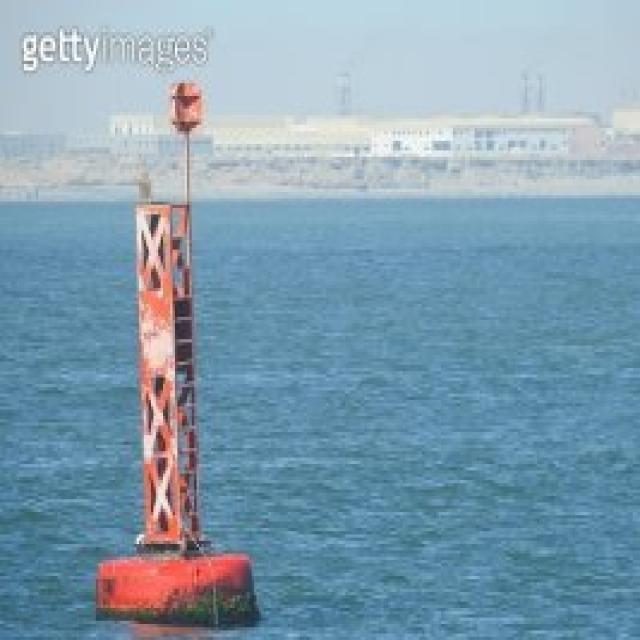2.1 lateral mark -P-: (97, 51, 265, 640)
